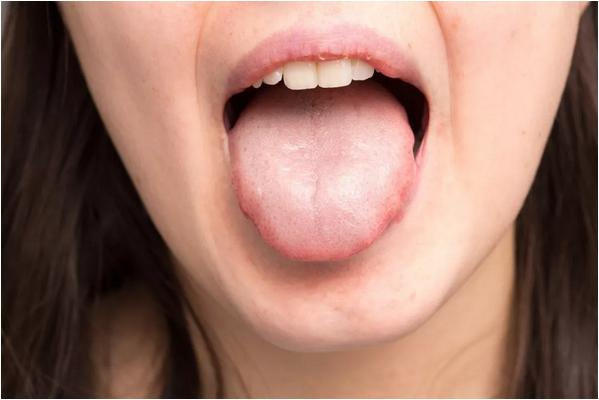baitaishe: (231, 82, 416, 260)
chihenshe: (231, 162, 261, 240)
